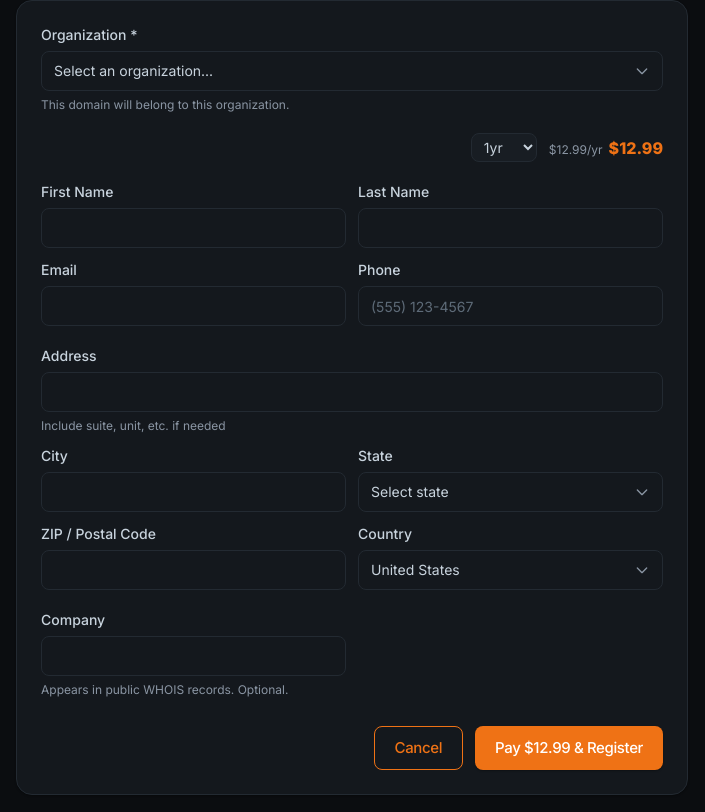
Test: DomainCheckoutForm organization selection › offers only orgs where the user can register (SuperAdmin/Admin/Editor)
Click the button "Select an organization..." at (134, 70), box [41, 51, 663, 91]
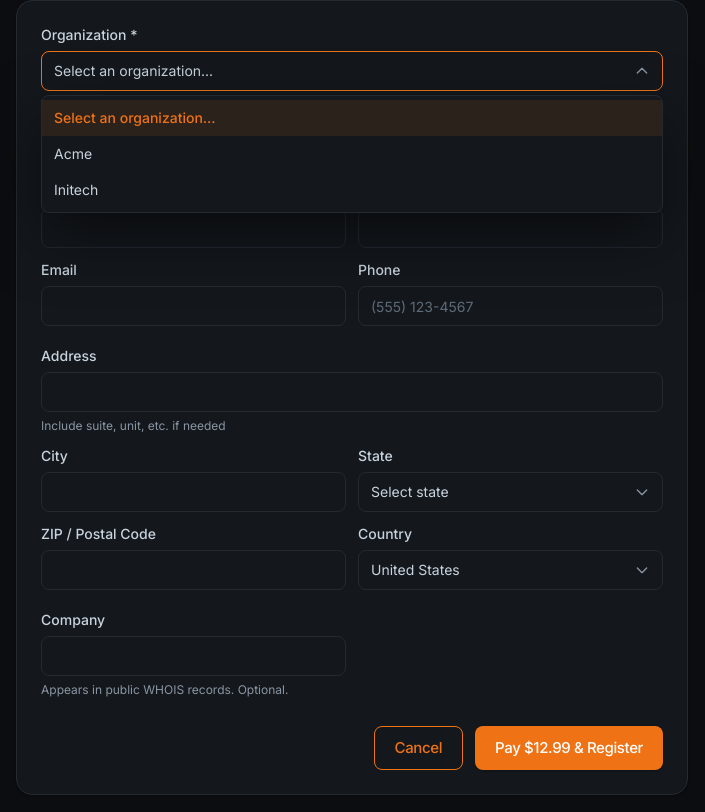
Now the option "Acme" is shown, box [42, 136, 662, 172]
Now the option "Initech" is shown, box [42, 172, 662, 208]
